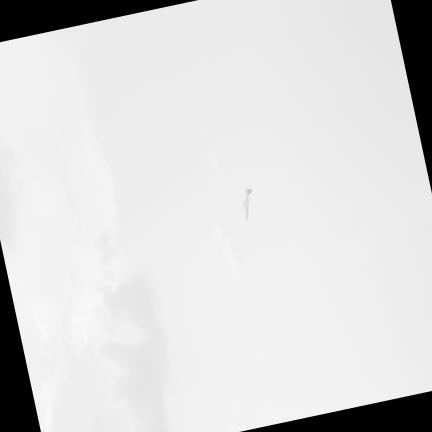Shahed: (242, 188, 250, 219)
